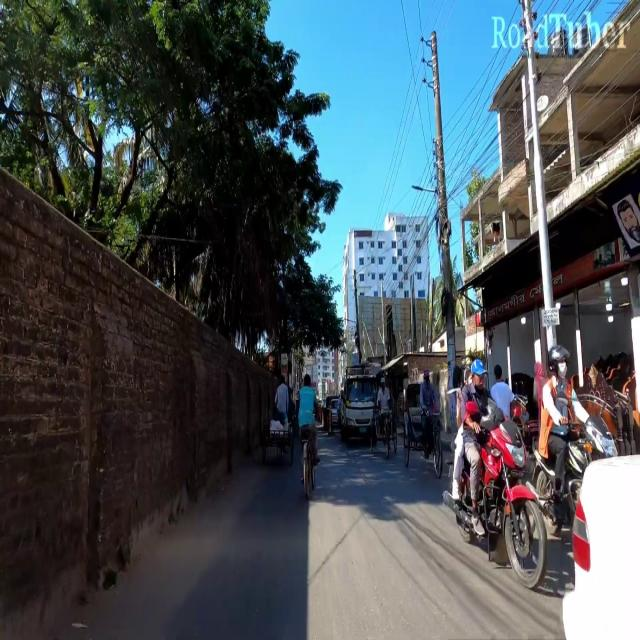white: (560, 446, 640, 640)
